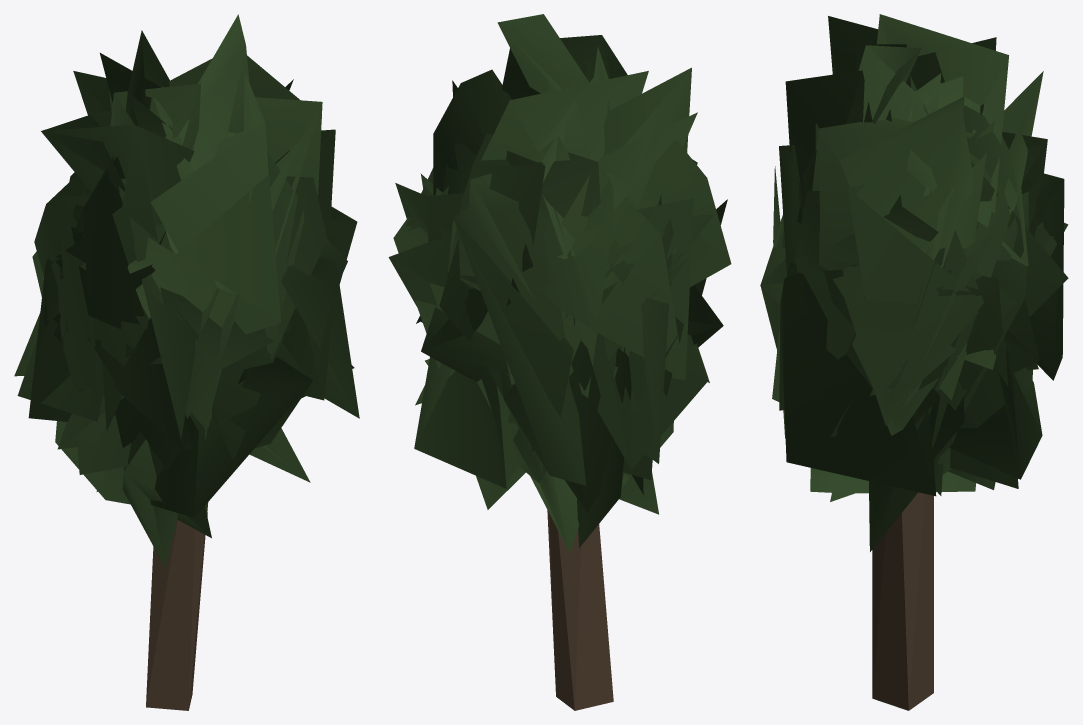
File: tree4.dae
The picture shows the model from 3 angles, left to right: view 1: azimuth 30°, elevation 25°; view 2: azimuth 150°, elevation 25°; view 3: azimuth 270°, elevation 25°; orthographic projection. The views are drawn at different scales.
Visible parts, largest first — view 1: Sphere2, Box4; view 2: Sphere2, Box4; view 3: Sphere2, Box4.
Part boxes in pixels (x1,y1,x2,y2): Sphere2: (14,14,359,568); Box4: (146,502,208,710); Sphere2: (388,14,731,553); Box4: (547,510,613,710); Sphere2: (760,14,1068,551); Box4: (872,492,933,710).
Size of the model in its own units: 2.09 by 4.78 by 1.94.
